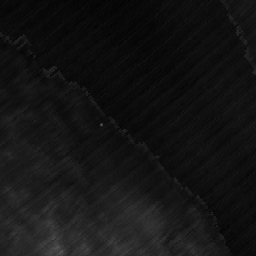Target: (98, 122, 105, 128)
